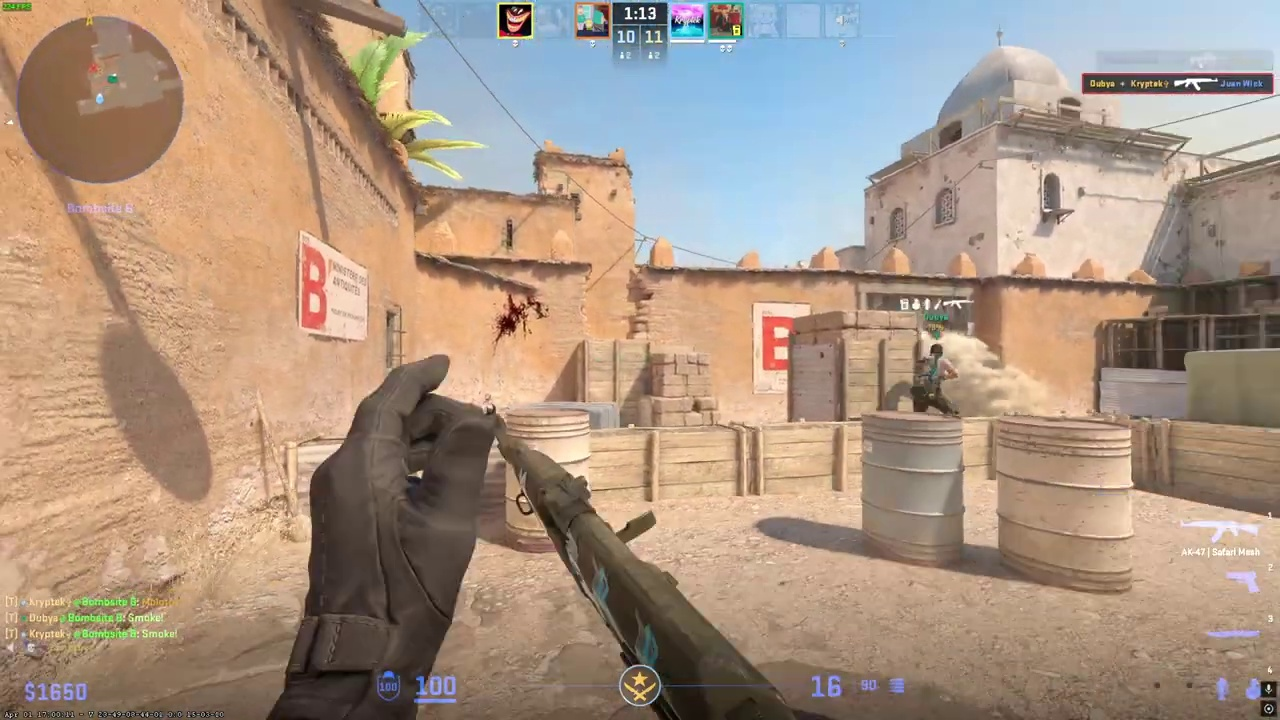Terrorist: (911, 343, 957, 416)
